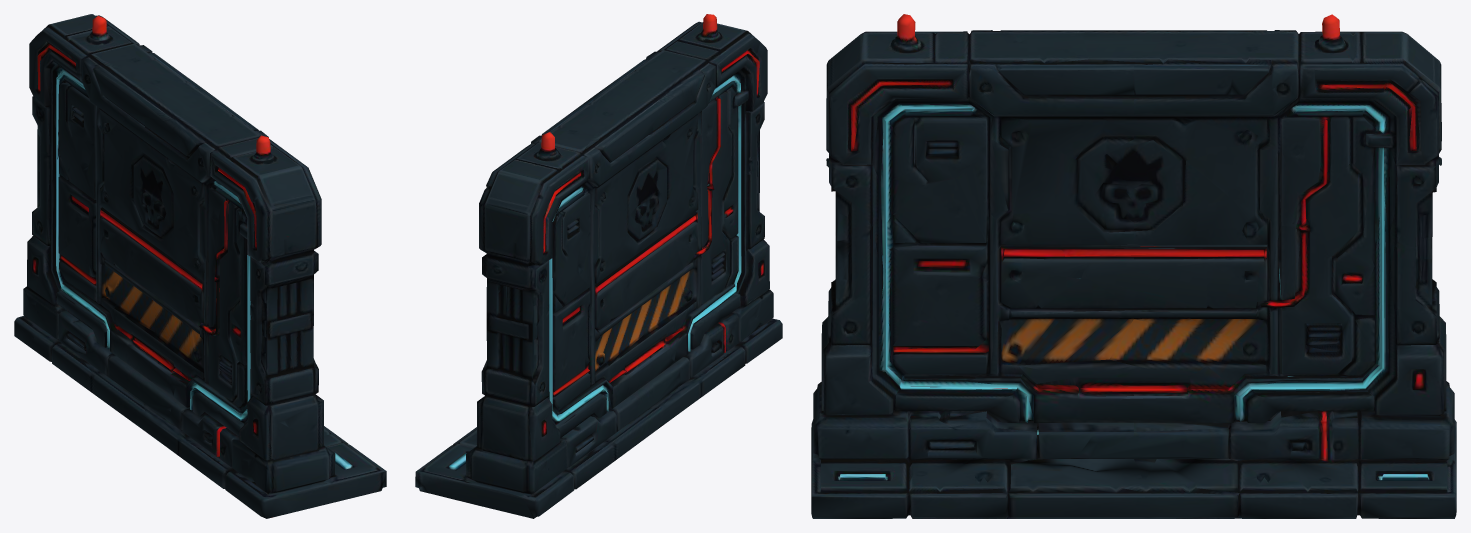
The model's file is WallBoss.fbx.
The picture shows the model from 3 angles, left to right: view 1: azimuth 30°, elevation 25°; view 2: azimuth 150°, elevation 25°; view 3: azimuth 270°, elevation 25°; orthographic projection. The views are drawn at different scales.
Parts seen in each view (by area): view 1: tripo_node_dd4933d7; view 2: tripo_node_dd4933d7; view 3: tripo_node_dd4933d7.
Boxes of the visible parts, box(x1,y1,x2,y2) form: tripo_node_dd4933d7: box(14, 14, 386, 518); tripo_node_dd4933d7: box(415, 14, 782, 518); tripo_node_dd4933d7: box(811, 14, 1456, 518).
Bounding box in the file's own units: 0.2901 × 0.7727 × 0.9995.
Materials: 1 (1 with a texture image).
